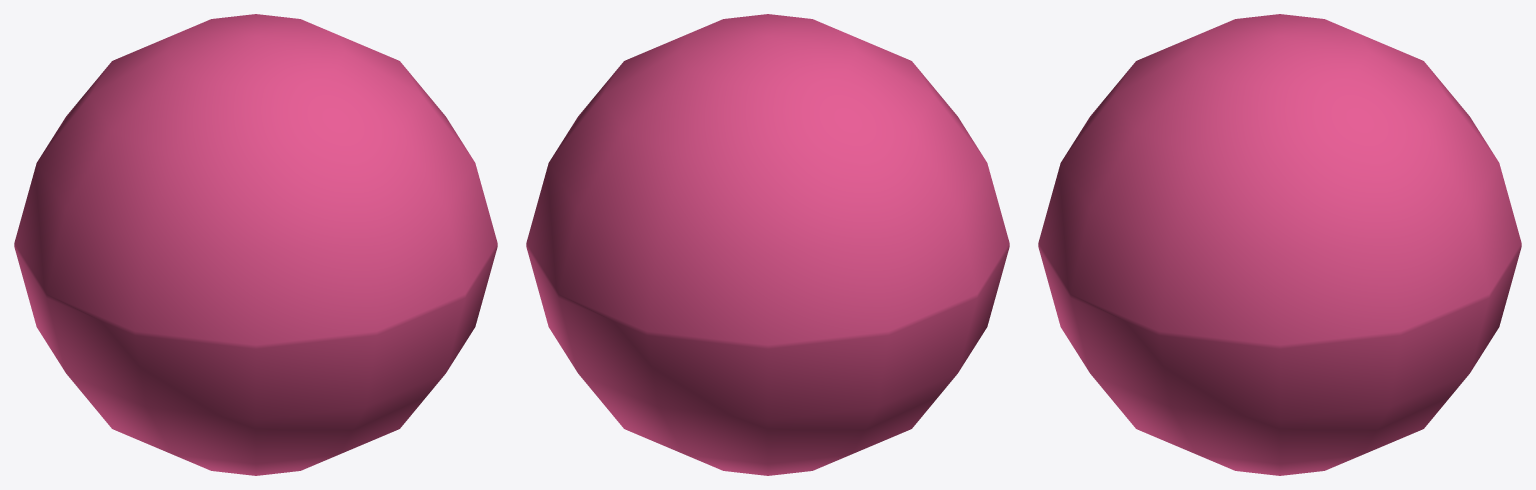
Rendered from oilcan.obj.
The picture shows the model from 3 angles, left to right: view 1: azimuth 30°, elevation 25°; view 2: azimuth 150°, elevation 25°; view 3: azimuth 270°, elevation 25°; orthographic projection.
Visible parts, largest first — view 1: OilTank001; view 2: OilTank001; view 3: OilTank001.
Part boxes in pixels (x1,y1,x2,y2): OilTank001: [14, 14, 497, 475]; OilTank001: [526, 14, 1009, 475]; OilTank001: [1038, 14, 1521, 475].
Size of the model in its own units: 55.38 by 52.79 by 55.38.
